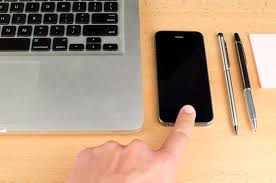mobil: (150, 29, 202, 126)
